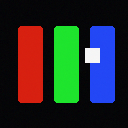1 square: (85, 48, 99, 62)
